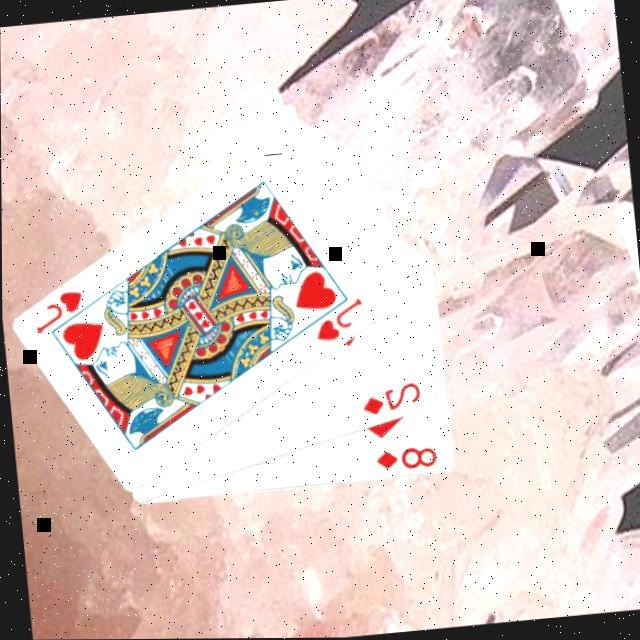2D: (358, 381, 426, 422)
8D: (372, 444, 441, 478)
JH: (310, 295, 370, 348), (30, 287, 90, 340)
